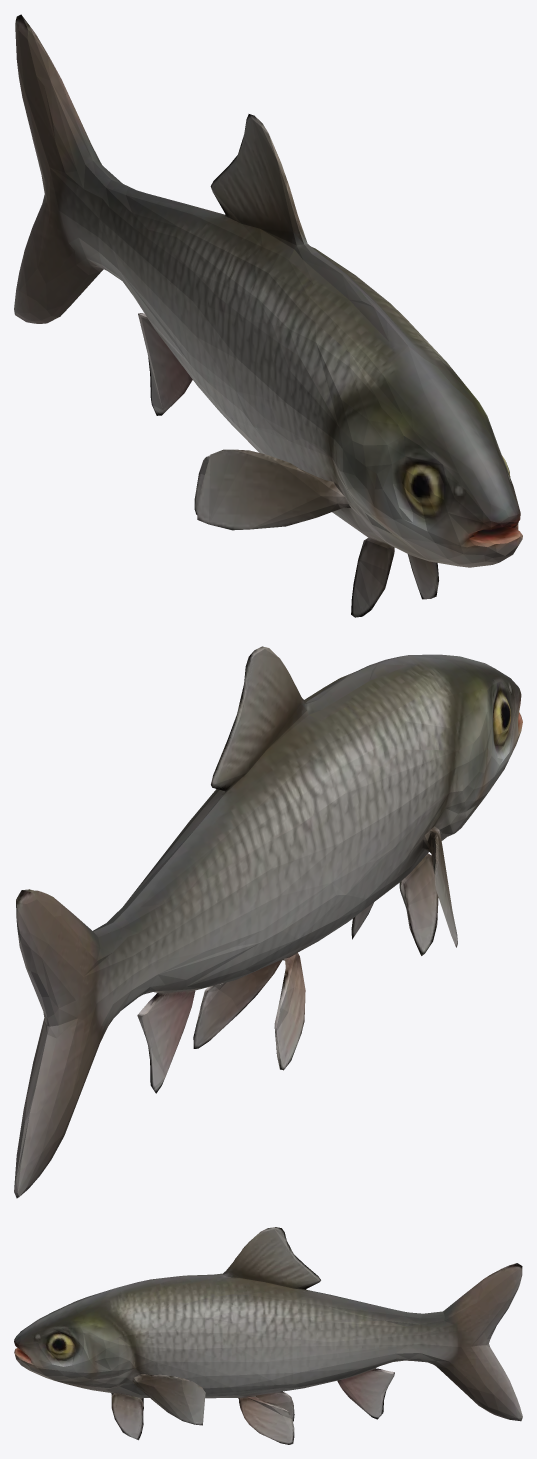
Rendered from mountain_whitefish.glb.
3 views of the same model, one above another, from view 1: azimuth 30°, elevation 25°; view 2: azimuth 150°, elevation 25°; view 3: azimuth 270°, elevation 25° (orthographic). The views are drawn at different scales.
Visible parts, largest first — view 1: geometry_0; view 2: geometry_0; view 3: geometry_0.
Part boxes in pixels (x1=…): geometry_0: x1=14, y1=14, x2=522, y2=617; geometry_0: x1=14, y1=646, x2=522, y2=1198; geometry_0: x1=14, y1=1227, x2=522, y2=1444.
Size of the model in its own units: 0.3057 by 0.449 by 1.
1 material, 1 textured.
